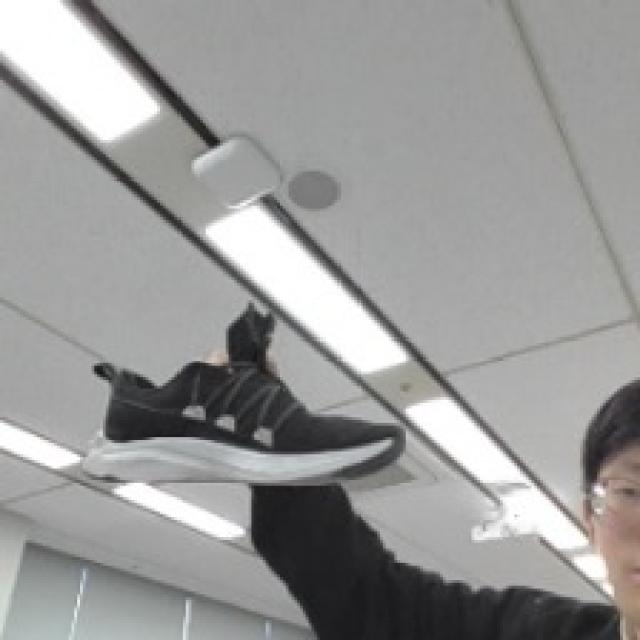shoe: (77, 264, 419, 527)
